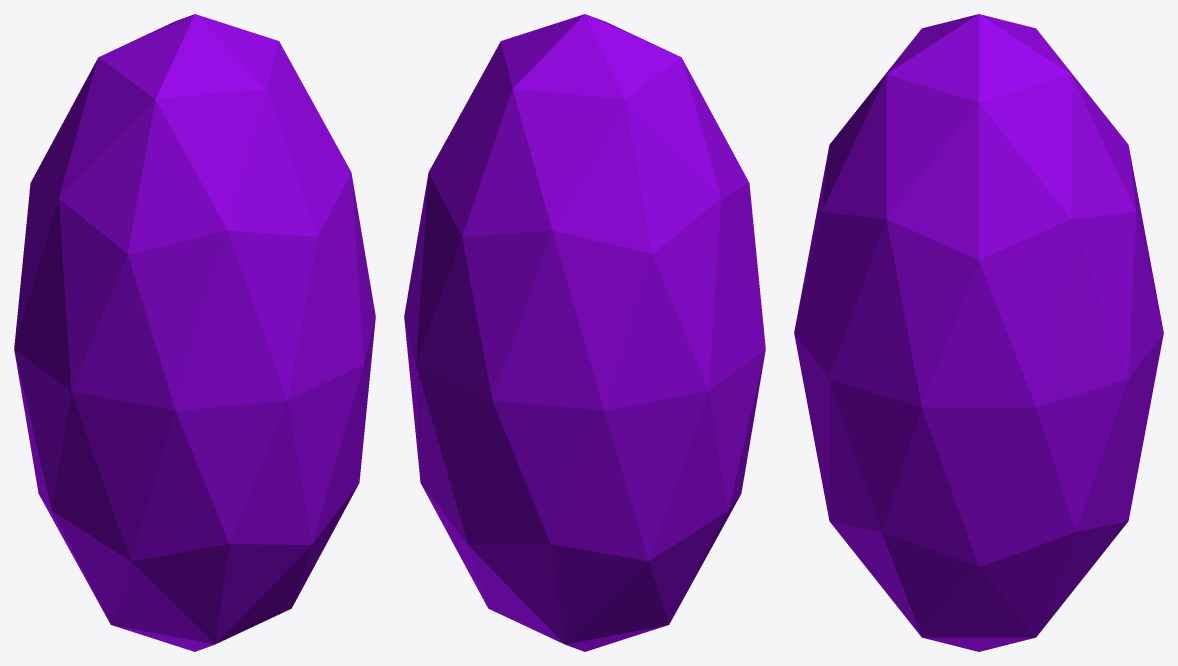
The model's file is BarrierCrystal.fbx.
3 views of the same model, side by side, from view 1: azimuth 30°, elevation 25°; view 2: azimuth 150°, elevation 25°; view 3: azimuth 270°, elevation 25° (orthographic).
Parts seen in each view (by area): view 1: Icosphere; view 2: Icosphere; view 3: Icosphere.
Boxes of the visible parts, x1,y1,x2,y2 form: Icosphere: (14, 14, 375, 651); Icosphere: (404, 14, 765, 651); Icosphere: (794, 14, 1163, 651).
Size of the model in its own units: 819 by 1639 by 861.
